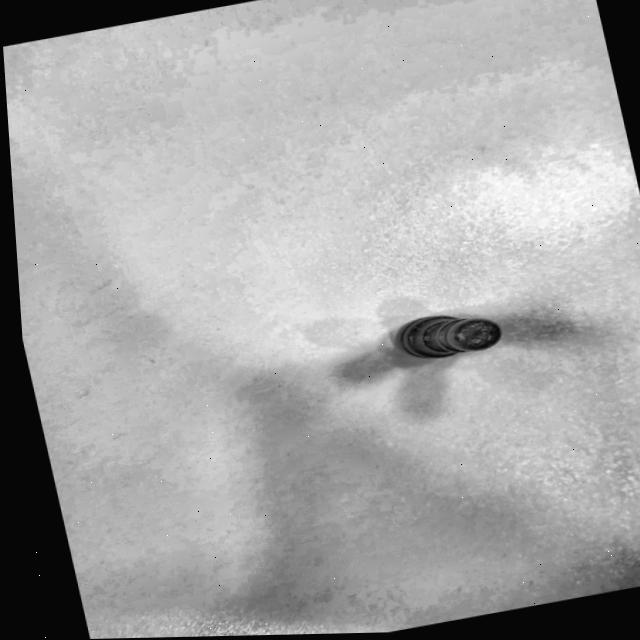black-pawn: (380, 295, 518, 374)
